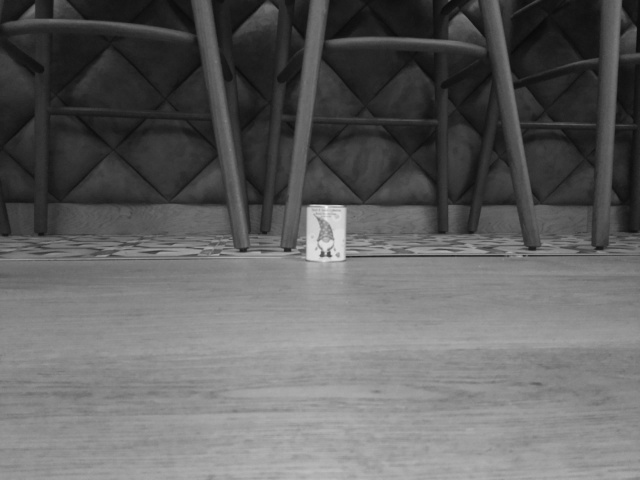gnome: (311, 212, 341, 259)
